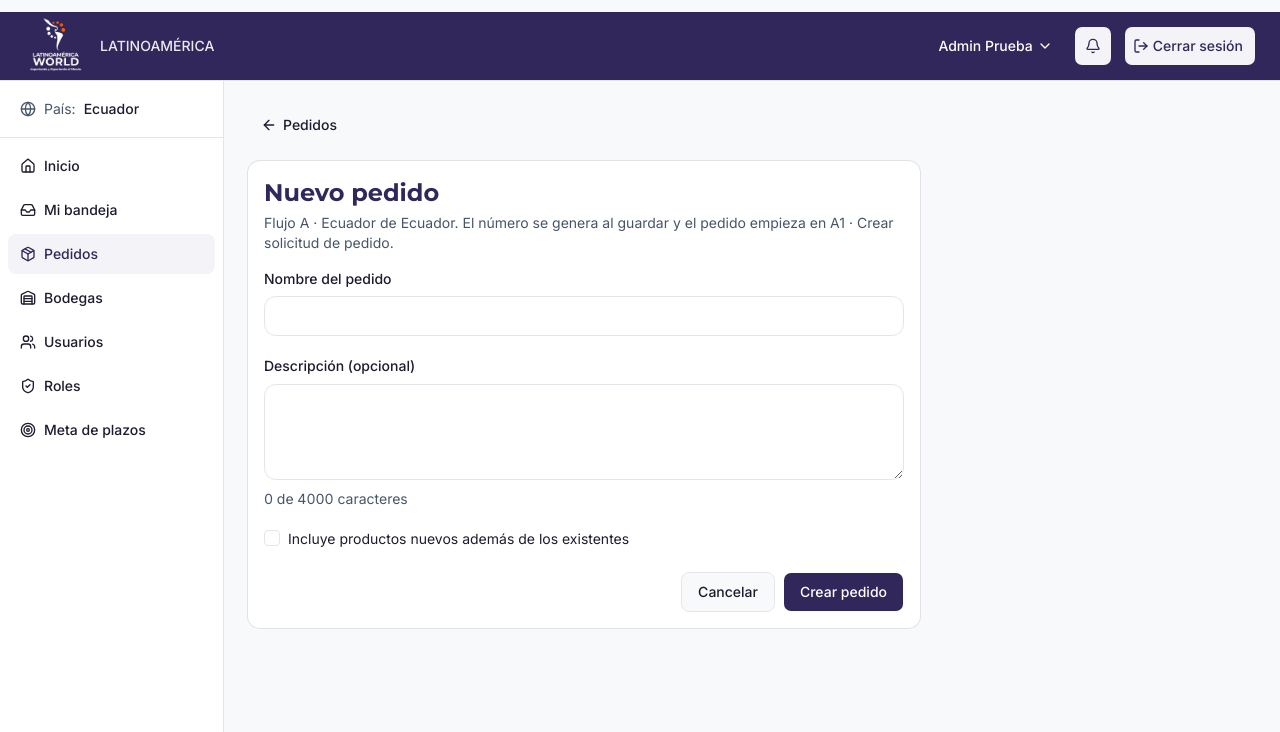
Test: Crear pedido › sin nombre no envía nada
The width and height of the screenshot is (1280, 732).
Click the button "Crear pedido".
click(844, 592)  # box [783,572,904,612]
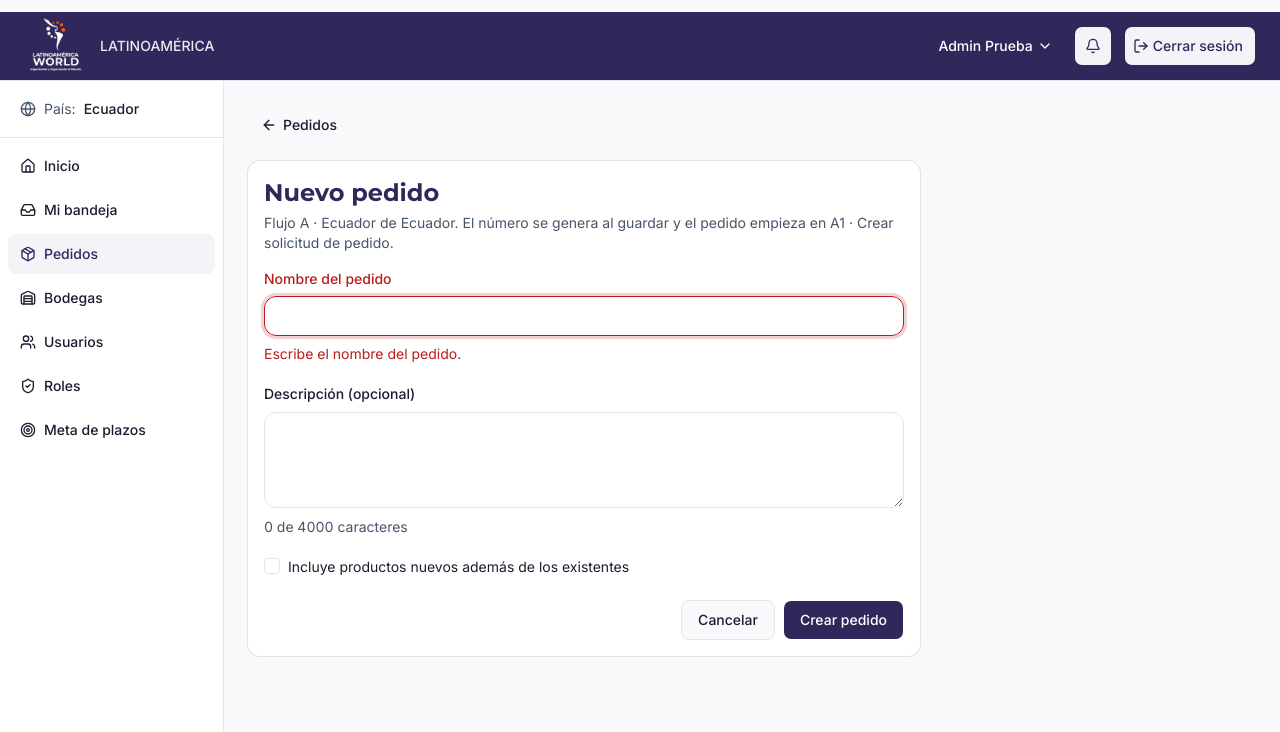
Check: the text "Escribe el nombre del pedido." is shown, box [264,345,461,362]
